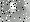person: (11, 3, 17, 13)
